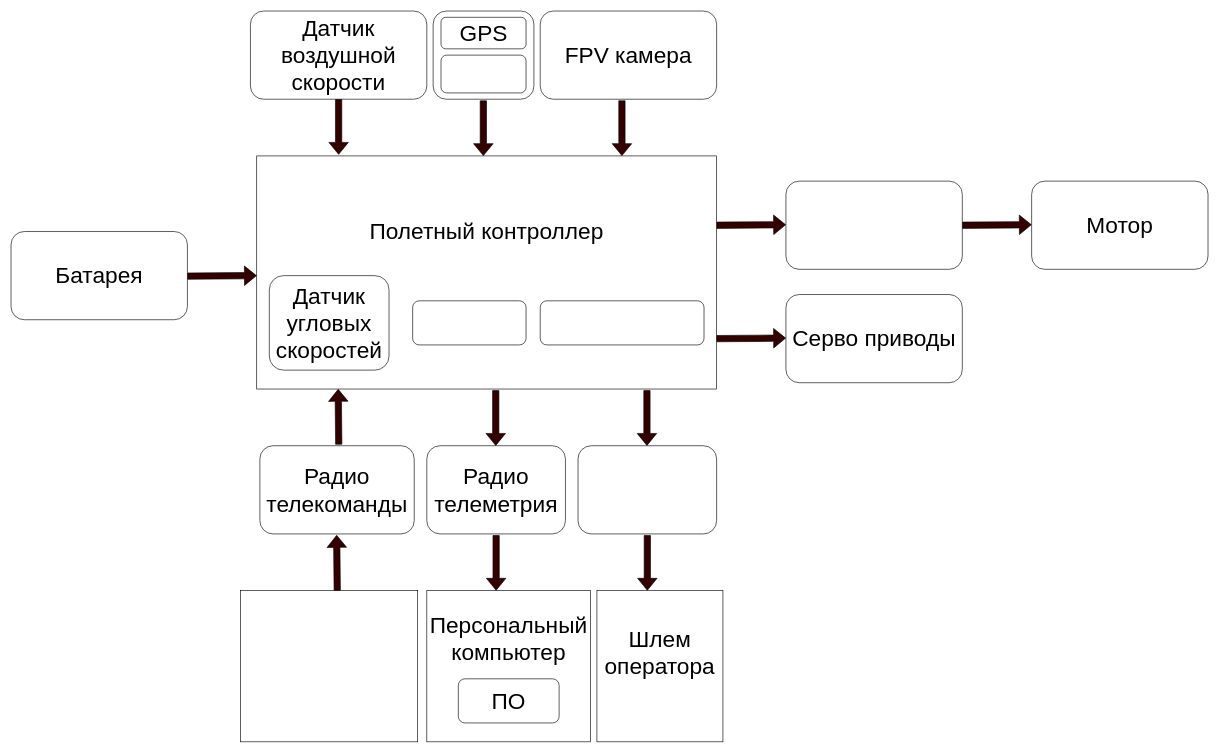
This 1219x753 diagram has some shape labels left out. Each missing label, with the centre of its shape:
"Акселерометр" goes at [622,322].
"Барометр" goes at [469,322].
"Компас" goes at [483,73].
"Пульт дистанционного управления" goes at [329,666].
"Радио видеопоток" goes at [647,489].
"Регулятор оборотов" goes at [873,224].
